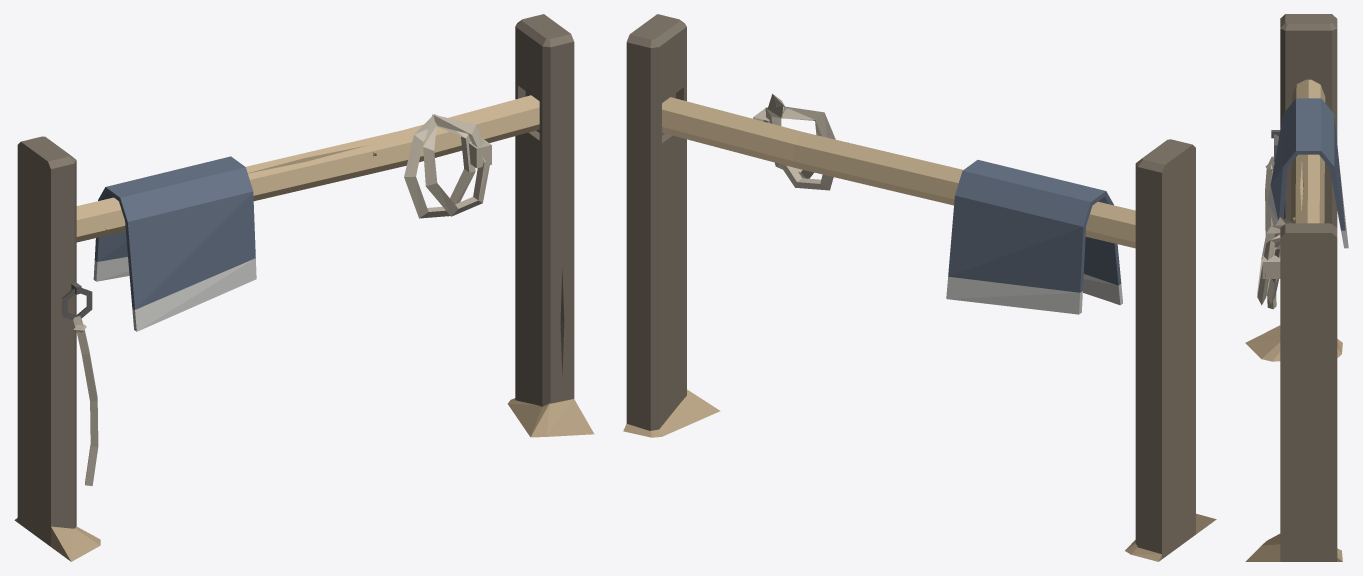
File: bench.glb
3 views of the same model, side by side, from view 1: azimuth 30°, elevation 25°; view 2: azimuth 150°, elevation 25°; view 3: azimuth 270°, elevation 25° (orthographic). The views are drawn at different scales.
Visible parts, largest first — view 1: bench; view 2: bench; view 3: bench.
Part boxes in pixels (bbox=[...]): bench: bbox=[14, 14, 593, 561]; bench: bbox=[623, 14, 1216, 561]; bench: bbox=[1245, 14, 1348, 561].
Bounding box in the file's own units: 2.2 × 1.54 × 0.4398.
